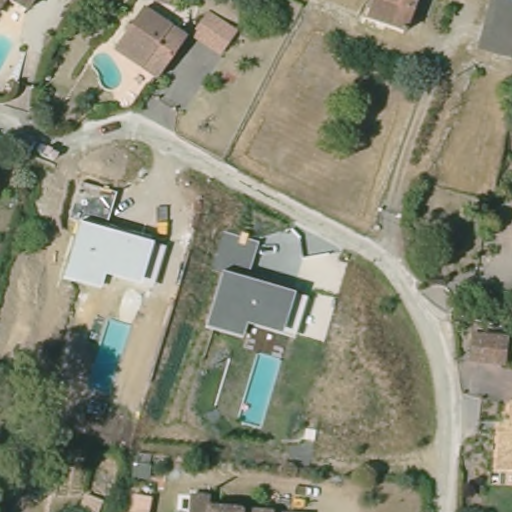pool: (86, 317, 133, 405), (239, 347, 281, 434), (87, 48, 126, 95), (1, 29, 19, 83)
